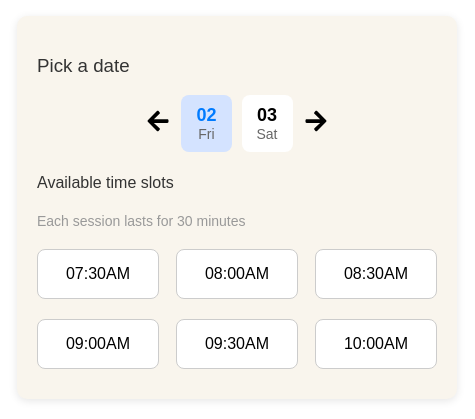
Test case: TimeSlotPicker Component › renders the dates from data and handles date selection
Check: the text "02" is shown, box [196,105,216,126]
Check: the text "Fri" is shown, box [198,126,215,142]
// Select the second date
Click the text "03" at [267, 116], box [256,105,278,126]
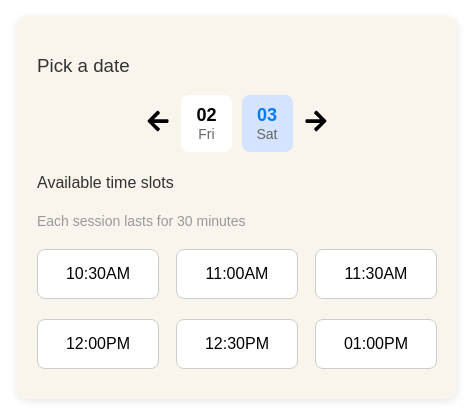
Check: the text "Sat" is shown, box [256,126,278,142]
Check: the text "10:30AM" is shown, box [37,249,159,299]
Check: the text "01:00PM" is shown, box [315,319,437,369]
